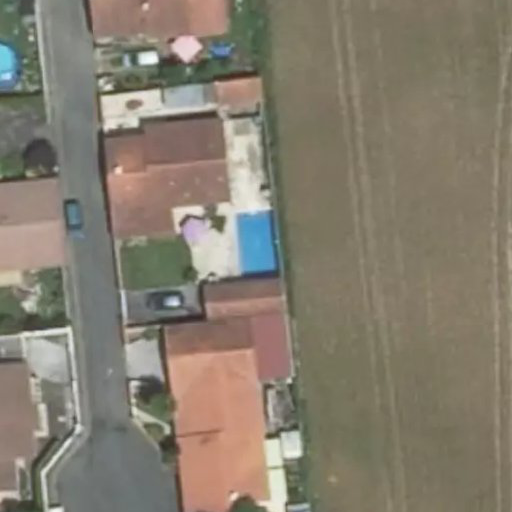pool: (234, 211, 277, 272)
